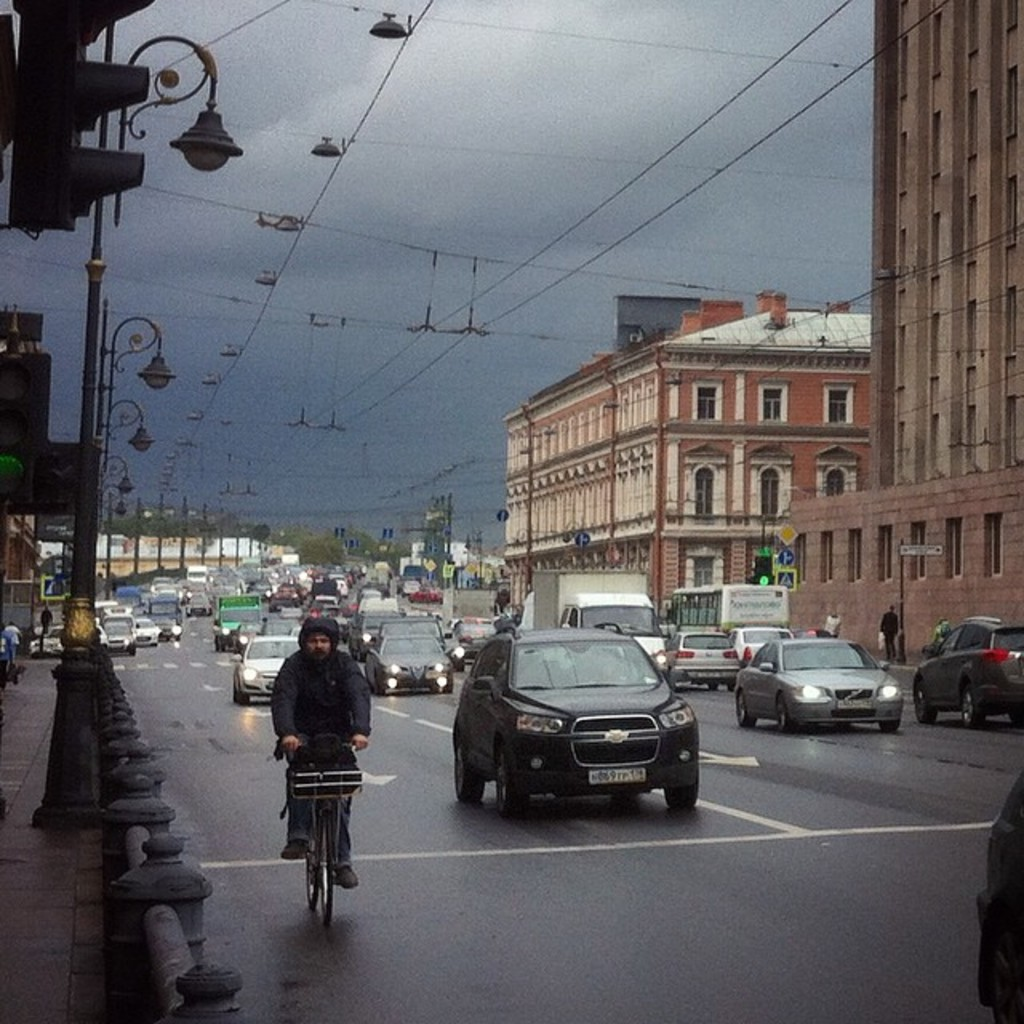Bike: (270, 721, 373, 928)
